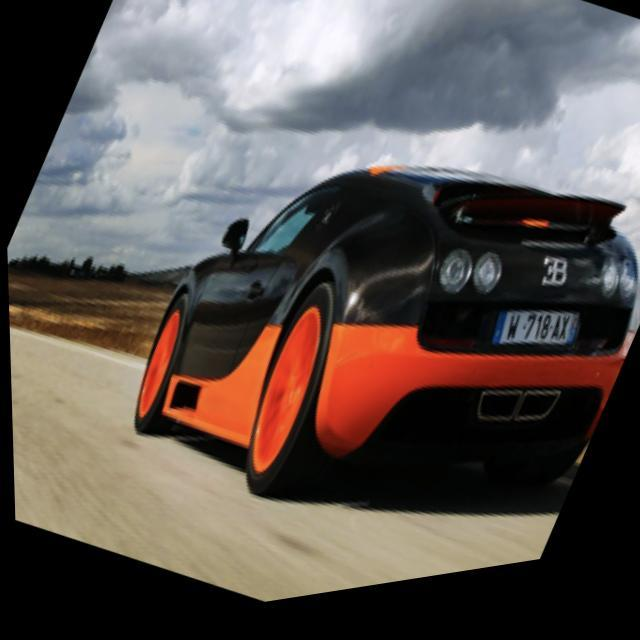license_plate: (478, 272, 594, 409)
